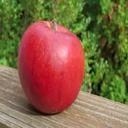apple: (17, 18, 85, 115)
